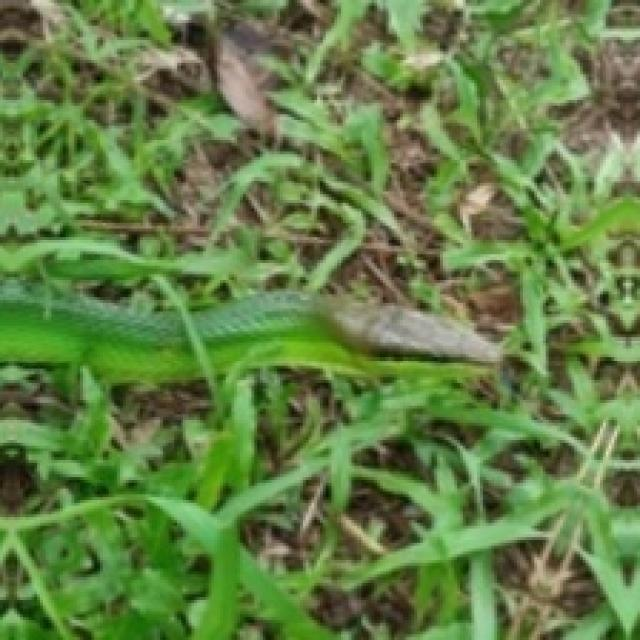red-tailed green ratsnake: (191, 291, 497, 377), (0, 283, 200, 383)
